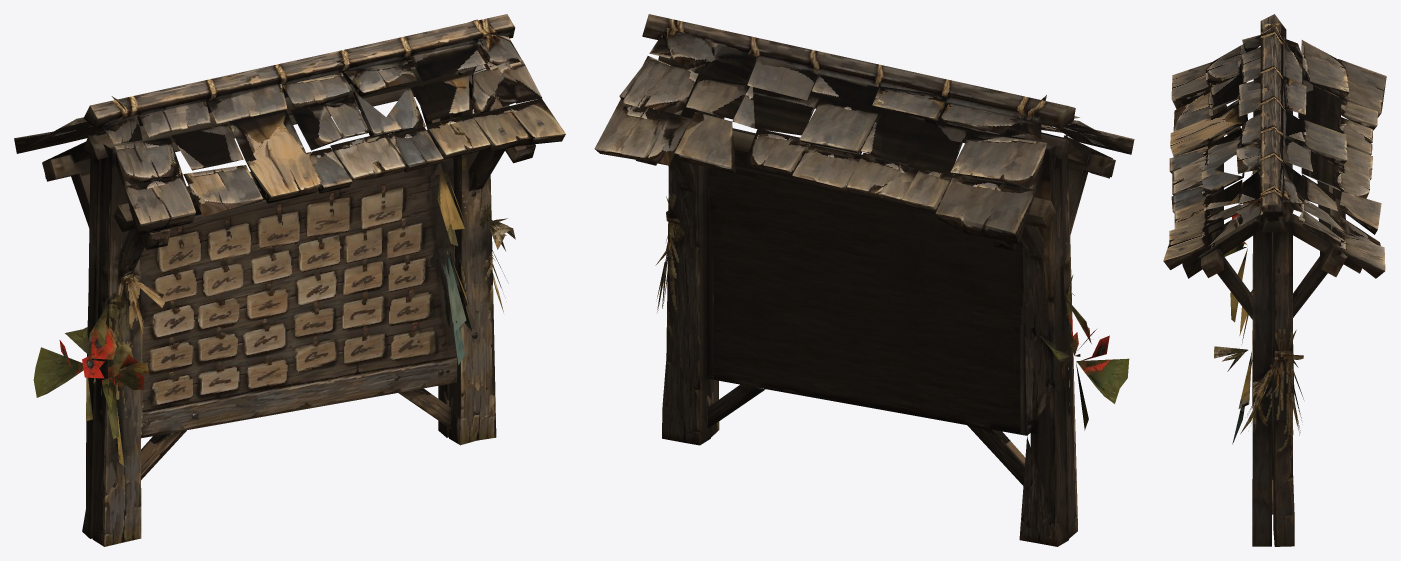
The model's file is act1_extras_v1_name_board.glb.
3 views of the same model, side by side, from view 1: azimuth 30°, elevation 25°; view 2: azimuth 150°, elevation 25°; view 3: azimuth 270°, elevation 25° (orthographic). The views are drawn at different scales.
Parts seen in each view (by area): view 1: A15_3_name_board; view 2: A15_3_name_board; view 3: A15_3_name_board.
Part boxes in pixels (x1,y1,x2,y2): A15_3_name_board: (14, 14, 565, 546); A15_3_name_board: (594, 14, 1134, 546); A15_3_name_board: (1163, 14, 1386, 546).
Size of the model in its own units: 0.9961 by 0.8848 by 0.4731.
Materials: 1 (1 with a texture image).
